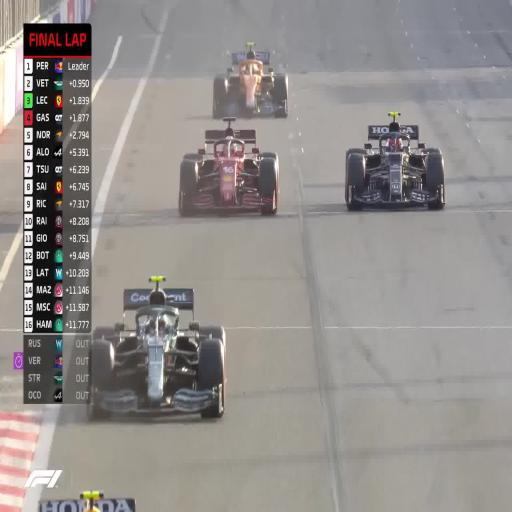f1_car: (89, 276, 226, 418), (178, 118, 279, 216), (345, 112, 445, 210), (212, 42, 288, 118), (38, 490, 135, 511)
